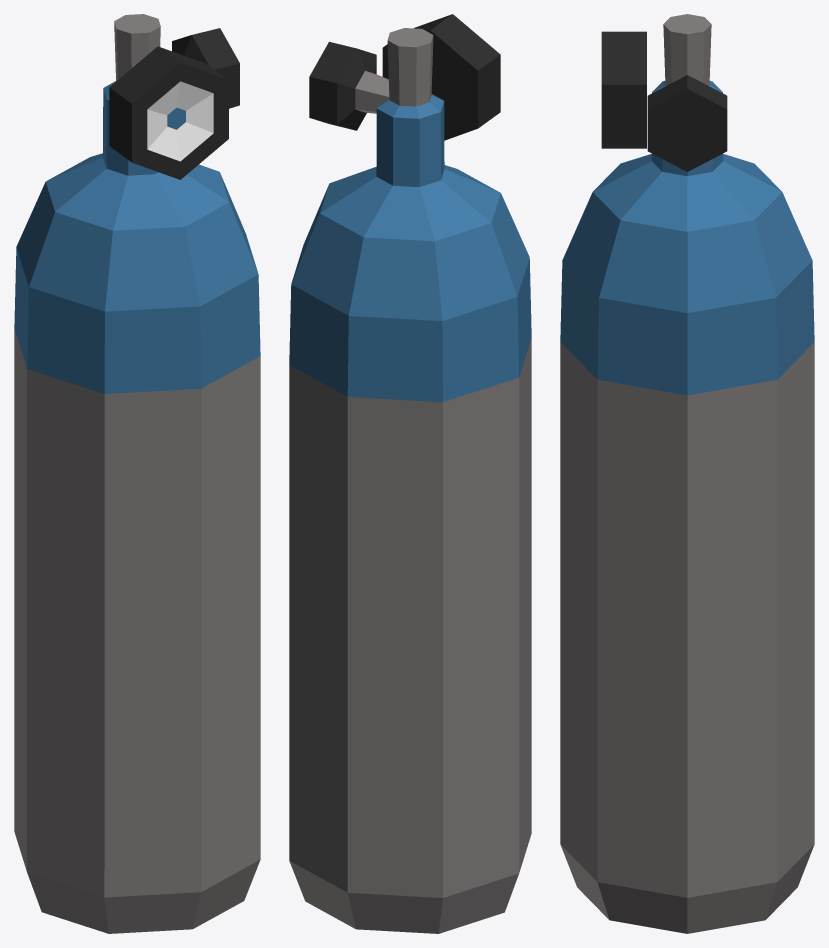
Rendered from resources-oxygen-cylinder.glb.
The picture shows the model from 3 angles, left to right: view 1: azimuth 30°, elevation 25°; view 2: azimuth 150°, elevation 25°; view 3: azimuth 270°, elevation 25°; orthographic projection.
Visible parts, largest first — view 1: oxygen-cylinder; view 2: oxygen-cylinder; view 3: oxygen-cylinder.
Part boxes in pixels (left/top/right/bottom): oxygen-cylinder: left=14, top=14, right=260, bottom=933; oxygen-cylinder: left=289, top=14, right=531, bottom=933; oxygen-cylinder: left=560, top=14, right=814, bottom=933.
Size of the model in its own units: 0.2521 by 0.9436 by 0.2521.
